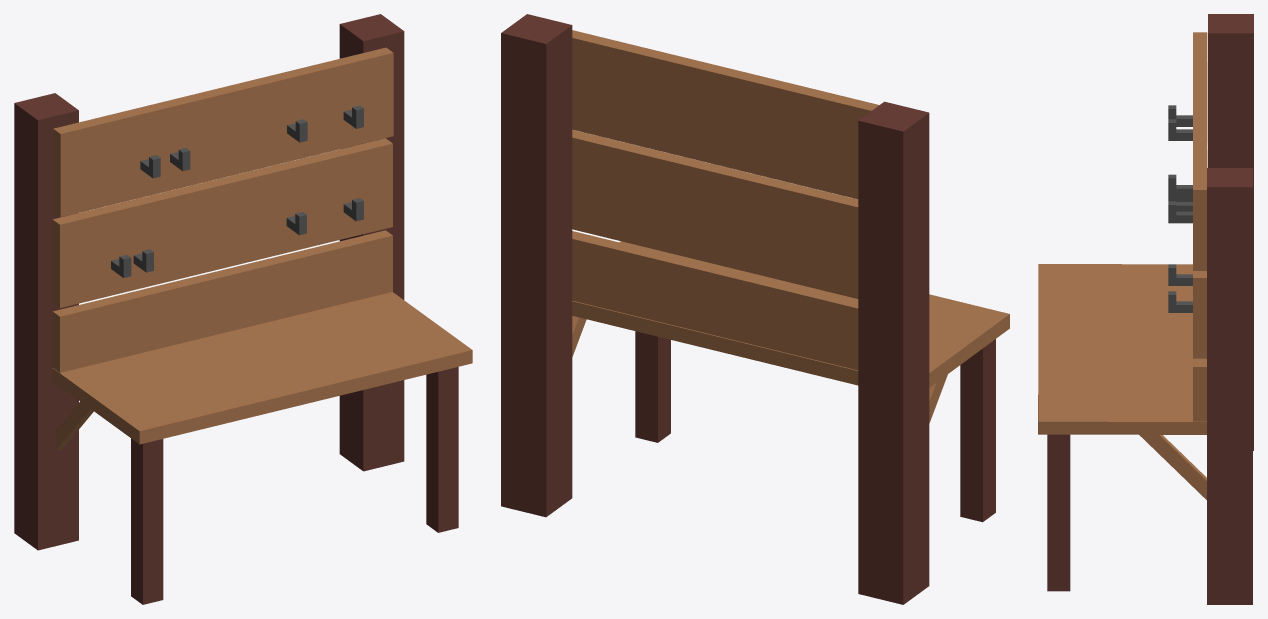
The model's file is table_for_tools.fbx.
3 renders of one model, left to right at view 1: azimuth 30°, elevation 25°; view 2: azimuth 150°, elevation 25°; view 3: azimuth 270°, elevation 25°, orthographic. The views are drawn at different scales.
Parts seen in each view (by area): view 1: bench; view 2: bench; view 3: bench.
Part boxes in pixels (x1,y1,x2,y2): bench: (14, 14, 472, 604); bench: (501, 14, 1009, 604); bench: (1038, 14, 1253, 604).
Bounding box in the file's own units: 88.13 × 98.96 × 46.33.
